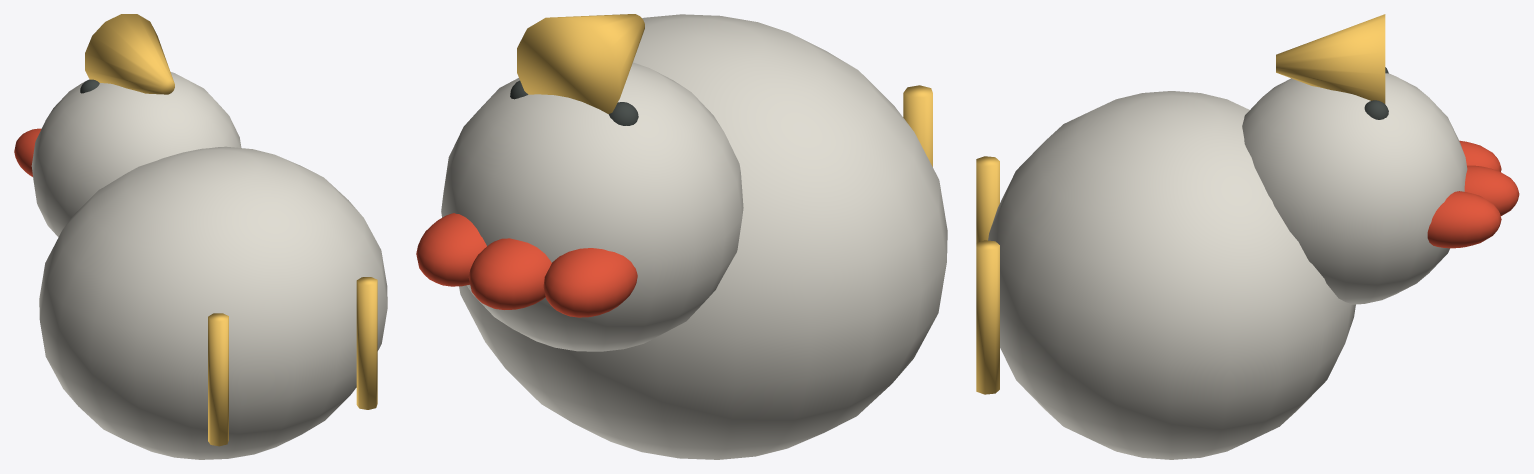
Rendered from chicken_character.glb.
3 renders of one model, left to right at view 1: azimuth 30°, elevation 25°; view 2: azimuth 150°, elevation 25°; view 3: azimuth 270°, elevation 25°, orthographic. The views are drawn at different scales.
Parts seen in each view (by area): view 1: Body, Head, Beak, Leg.001, Leg, Comb; view 2: Body, Head, Beak, Comb, Comb.001, Comb.002, Leg, Eye; view 3: Body, Head, Beak, Leg.001, Comb.002, Leg, Comb.001, Comb.
Boxes of the visible parts, <box> form: Body: <box>39,146,387,459</box>; Head: <box>31,72,241,237</box>; Beak: <box>85,14,174,94</box>; Leg.001: <box>356,277,377,409</box>; Leg: <box>208,313,228,446</box>; Comb: <box>14,128,41,176</box>; Body: <box>459,14,947,459</box>; Head: <box>441,62,743,351</box>; Beak: <box>517,14,644,114</box>; Comb: <box>543,248,637,317</box>; Comb.001: <box>468,238,551,309</box>; Comb.002: <box>416,213,486,286</box>; Leg: <box>903,85,932,166</box>; Eye: <box>609,102,638,125</box>; Body: <box>988,91,1355,459</box>; Head: <box>1242,73,1467,304</box>; Beak: <box>1276,14,1385,103</box>; Leg.001: <box>976,240,999,394</box>; Comb.002: <box>1427,191,1501,248</box>; Leg: <box>976,156,999,242</box>; Comb.001: <box>1464,165,1519,215</box>; Comb: <box>1459,140,1501,171</box>.
Bounding box in the file's own units: 0.84 × 0.93 × 1.09.
